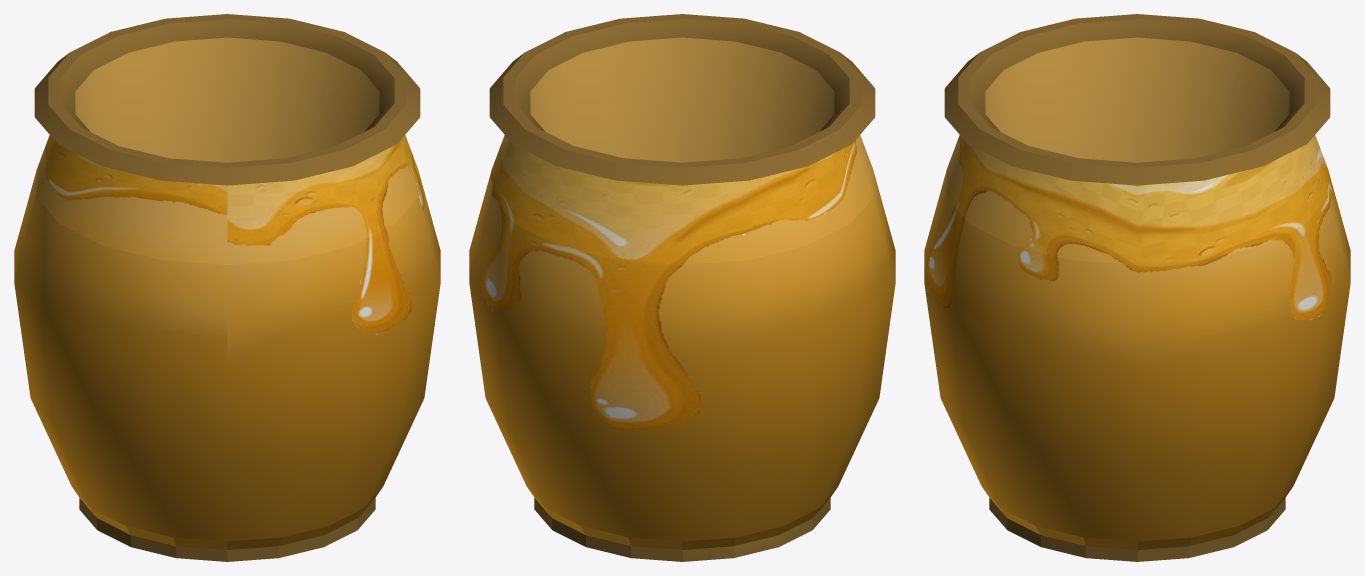
Rendered from tsubo.FBX.
3 views of the same model, side by side, from view 1: azimuth 30°, elevation 25°; view 2: azimuth 150°, elevation 25°; view 3: azimuth 270°, elevation 25° (orthographic).
Visible parts, largest first — view 1: Cylinder001; view 2: Cylinder001; view 3: Cylinder001.
Boxes of the visible parts, x1=… form: Cylinder001: x1=14, y1=14, x2=440, y2=561; Cylinder001: x1=469, y1=14, x2=895, y2=561; Cylinder001: x1=924, y1=14, x2=1350, y2=561.
Size of the model in its own units: 9.89 by 10.27 by 9.74.
